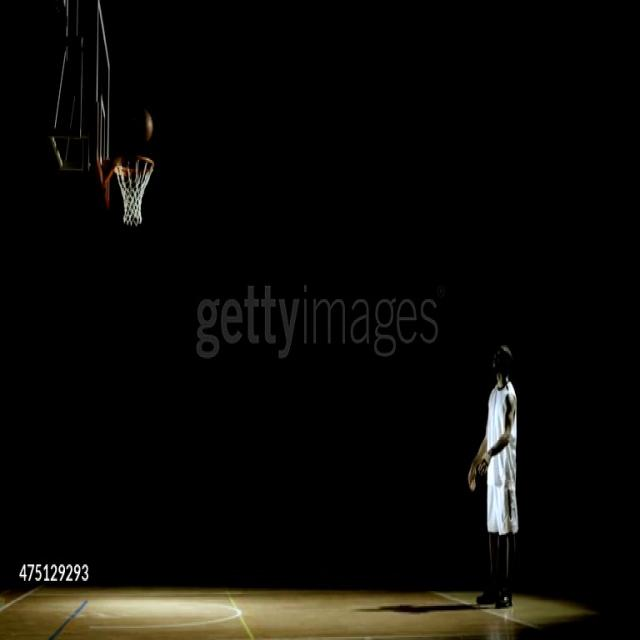ball: (135, 110, 153, 145)
